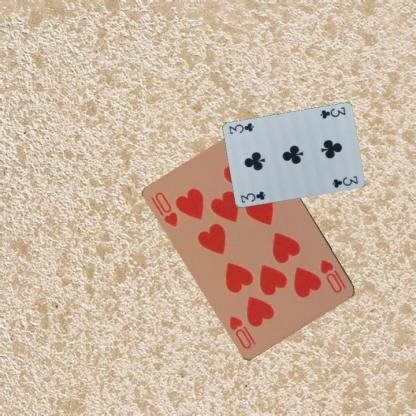10h: (318, 257, 348, 295), (153, 190, 180, 228)
3c: (238, 189, 267, 204), (318, 105, 347, 120)
